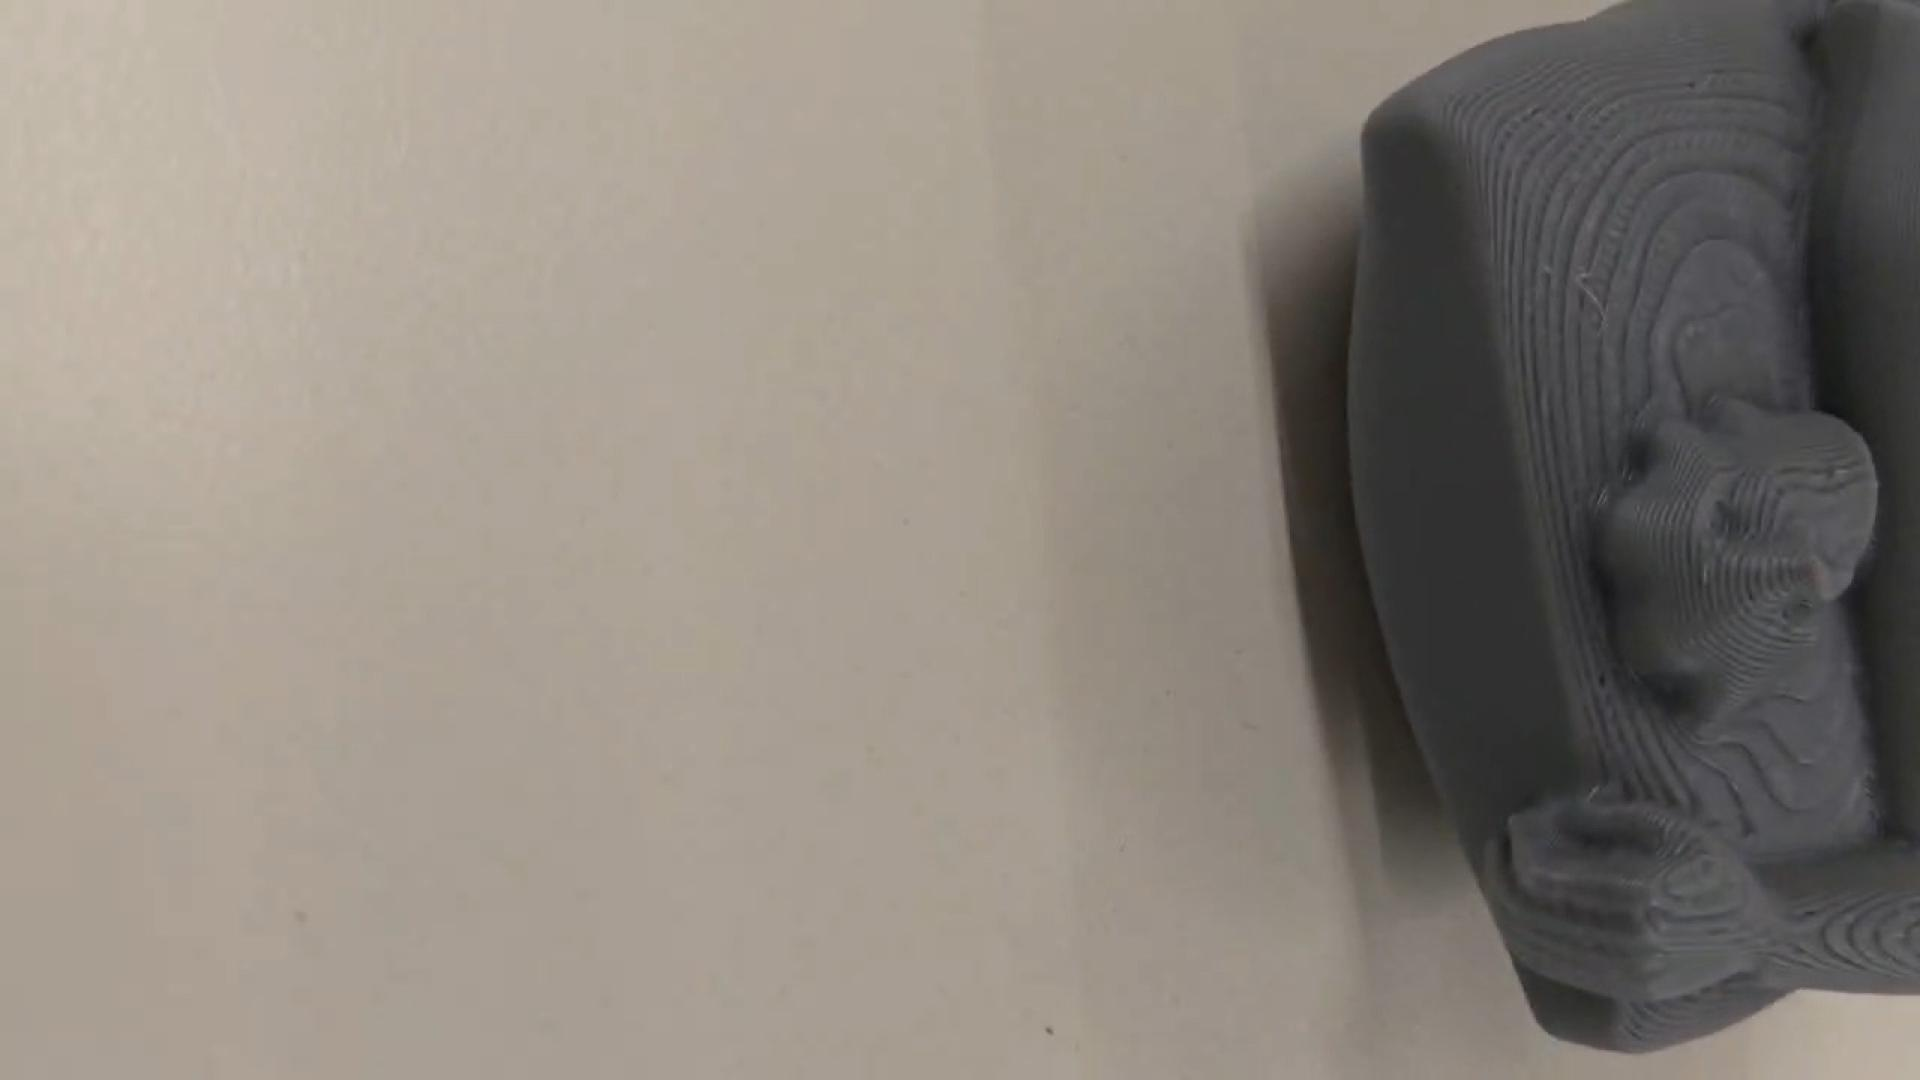Bad-style: (1323, 0, 1920, 1058)
